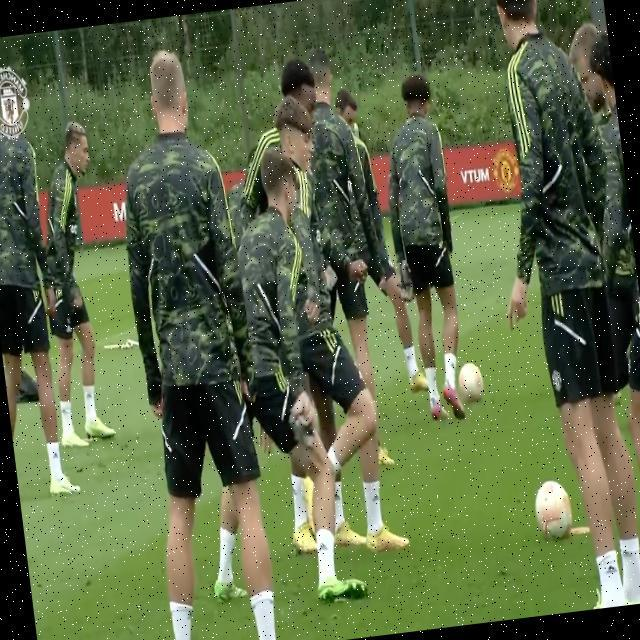Adidas: (602, 560, 618, 577), (316, 538, 328, 554), (370, 489, 380, 504)
